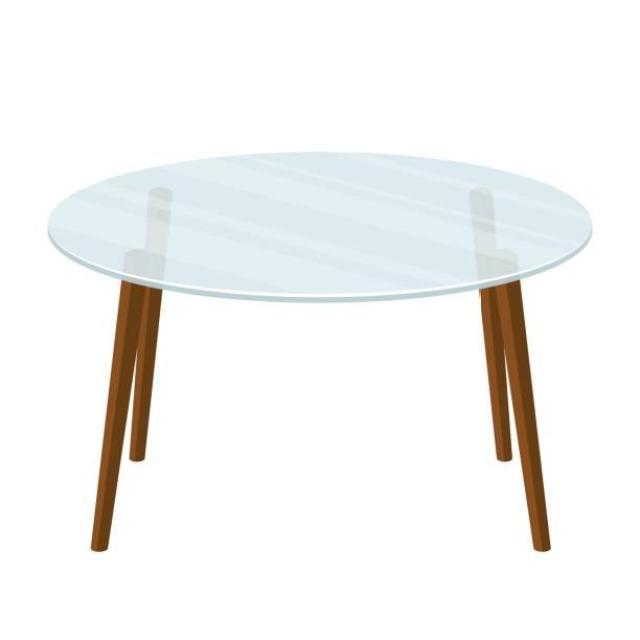table: (46, 148, 593, 554)
